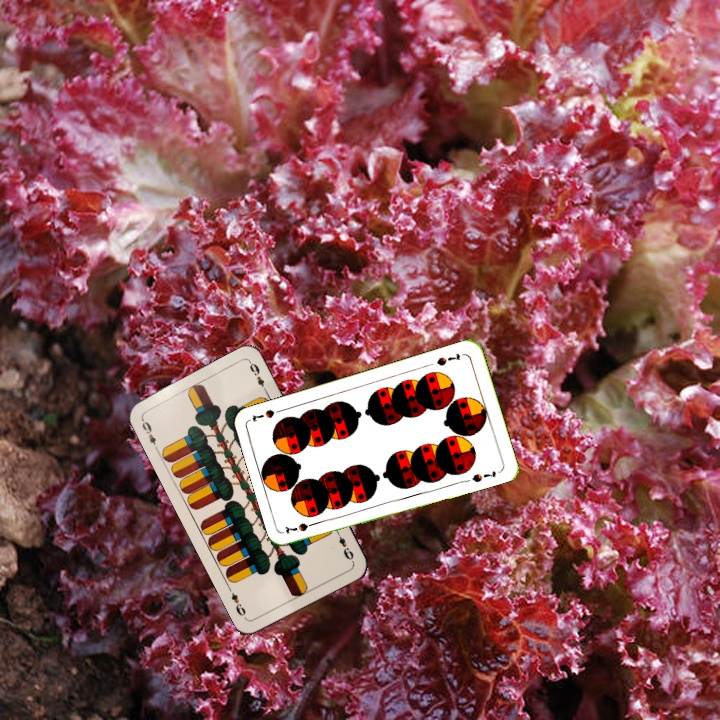E9: (137, 414, 161, 453), (332, 526, 356, 563)
S7: (281, 517, 322, 537), (432, 349, 463, 368)
